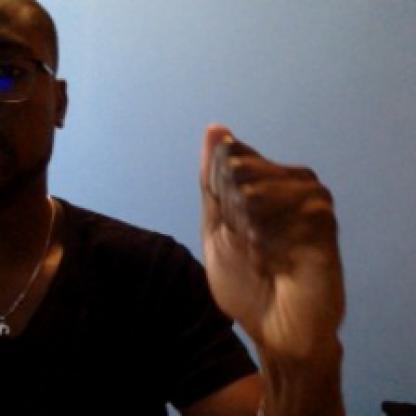BACKWARD: (184, 114, 366, 385)
